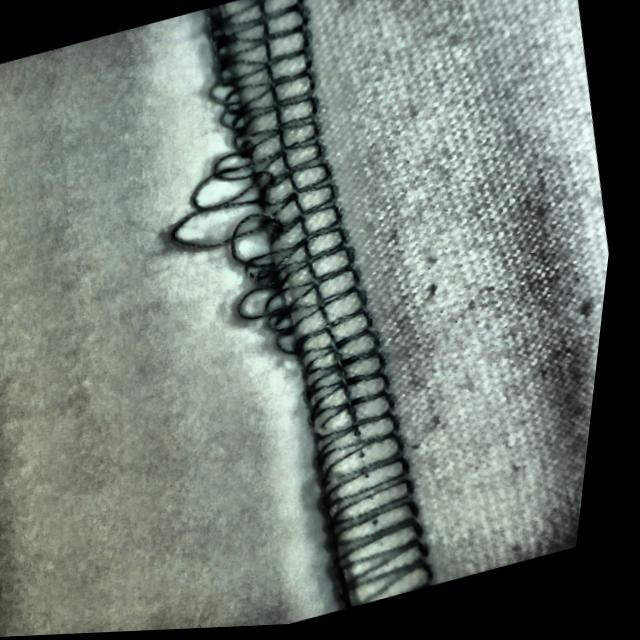Stitch: (113, 0, 416, 388)
